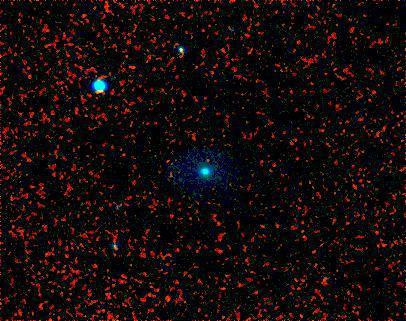star: (165, 35, 195, 65)
